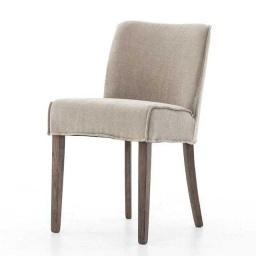Chair: (50, 22, 211, 244)
